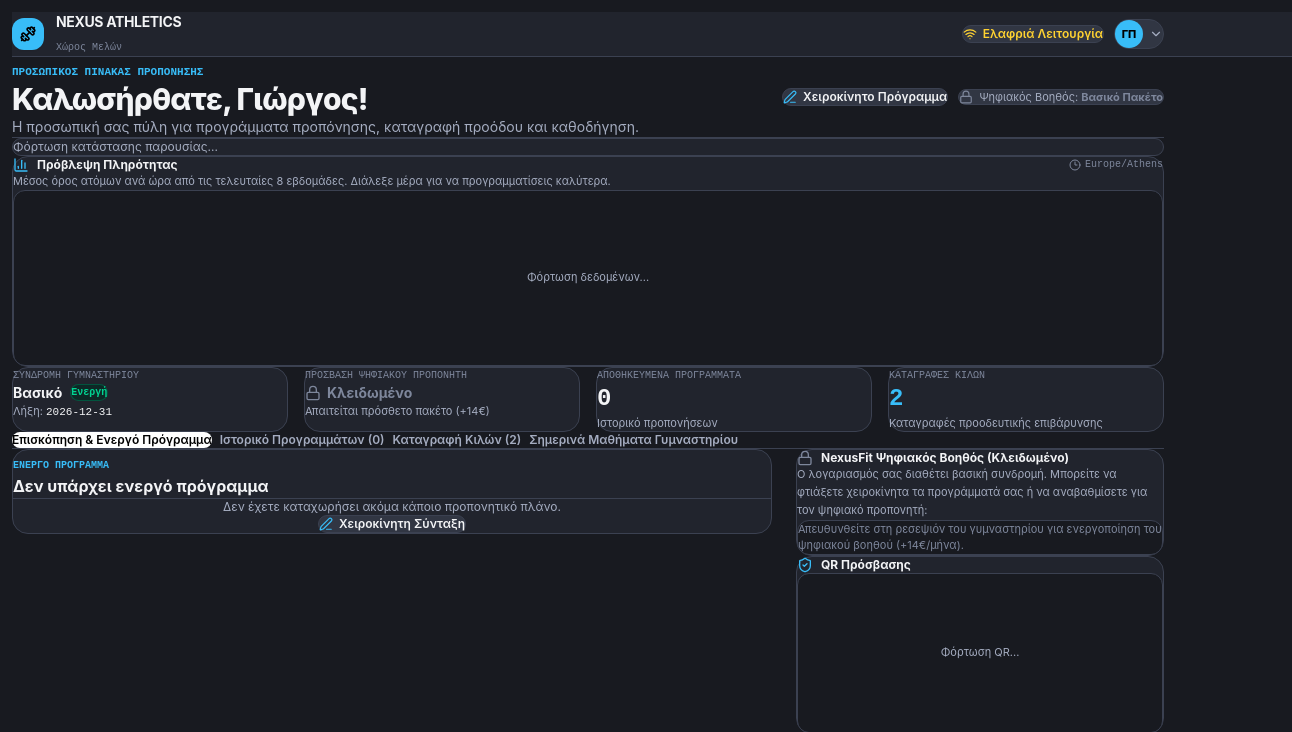
Test case: MemberPortalPage (the member's home screen) › shows the locally stored weight logs and counts them in the stat card
The image size is (1292, 732).
What coordinates should you click on to do the following:
click the button "Καταγραφή Κιλών (2)"
I would click on:
 (457, 440)
Its box is [392,432,521,448].
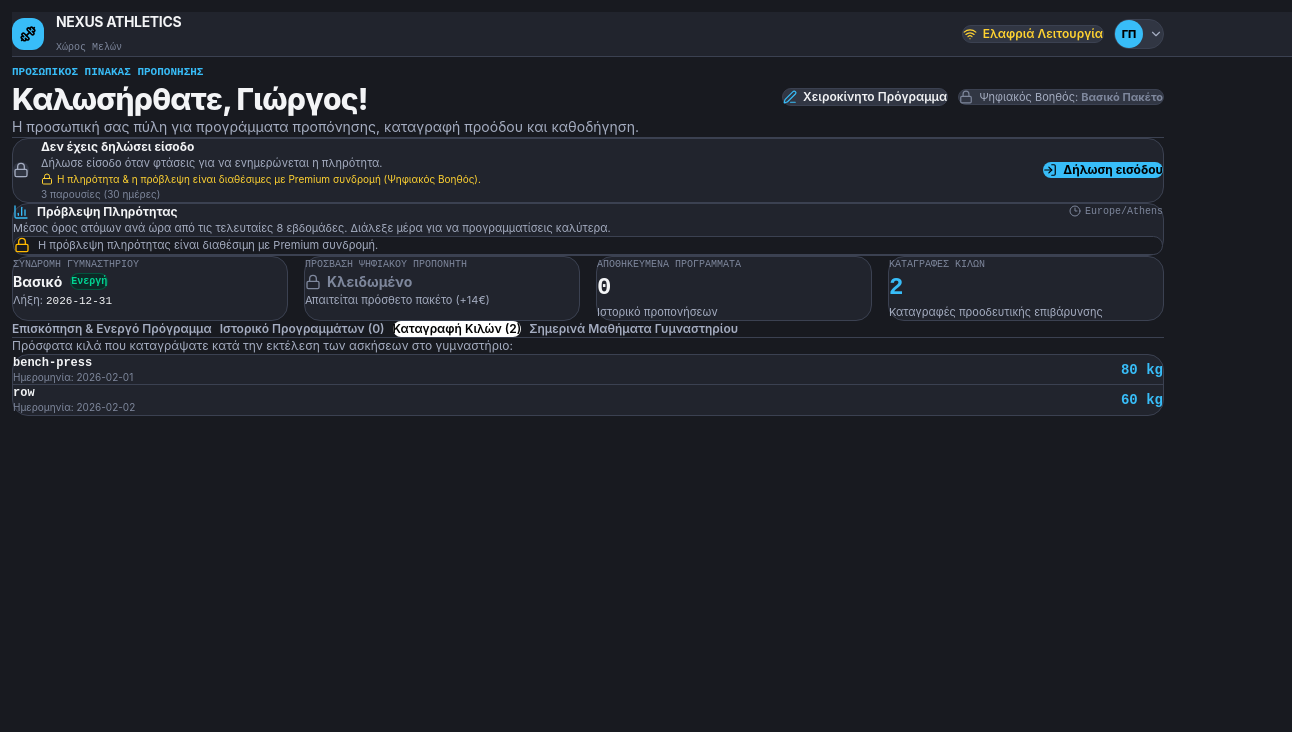
Expected: the text "bench-press" is shown, [13,356,92,370]
Expected: the text "80 kg" is shown, [1121,360,1163,380]
Expected: the text "60 kg" is shown, [1121,390,1163,410]
